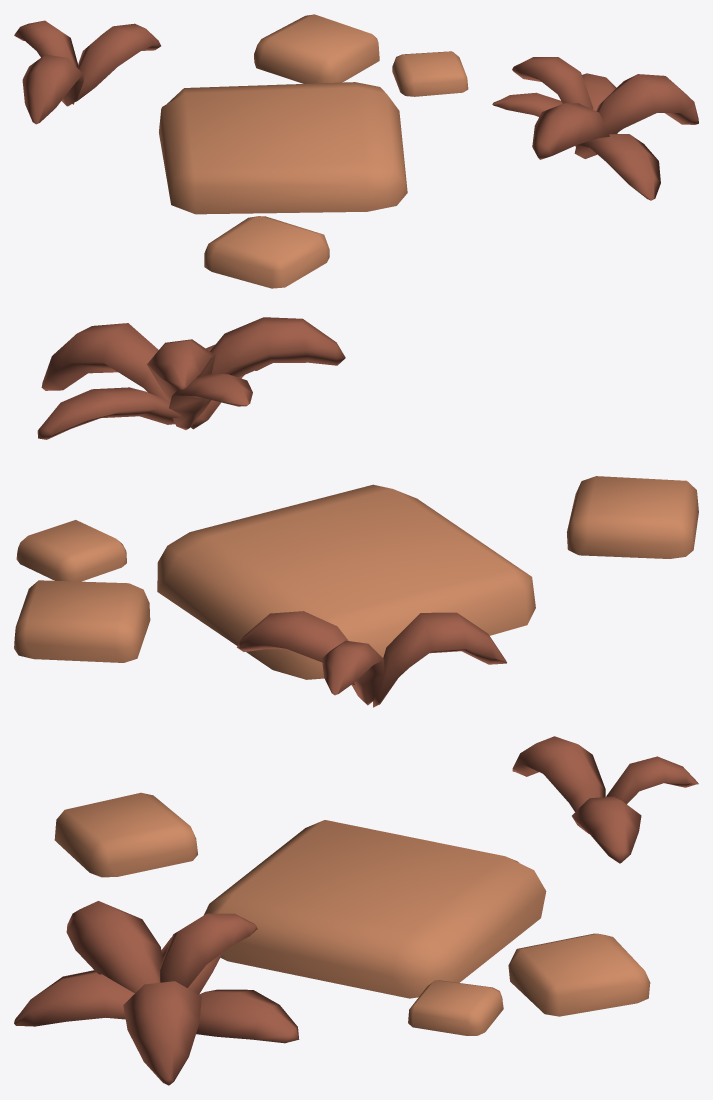
The model's file is detail_desert.fbx.
3 renders of one model, top to bottom at view 1: azimuth 30°, elevation 25°; view 2: azimuth 150°, elevation 25°; view 3: azimuth 270°, elevation 25°, orthographic. The views are drawn at different scales.
Visible parts, largest first — view 1: detail_desert; view 2: detail_desert; view 3: detail_desert.
Boxes of the visible parts, <box> form: detail_desert: <box>14,14,698,288</box>; detail_desert: <box>14,317,698,707</box>; detail_desert: <box>14,736,698,1085</box>.
Size of the model in its own units: 170 by 33.11 by 166.
